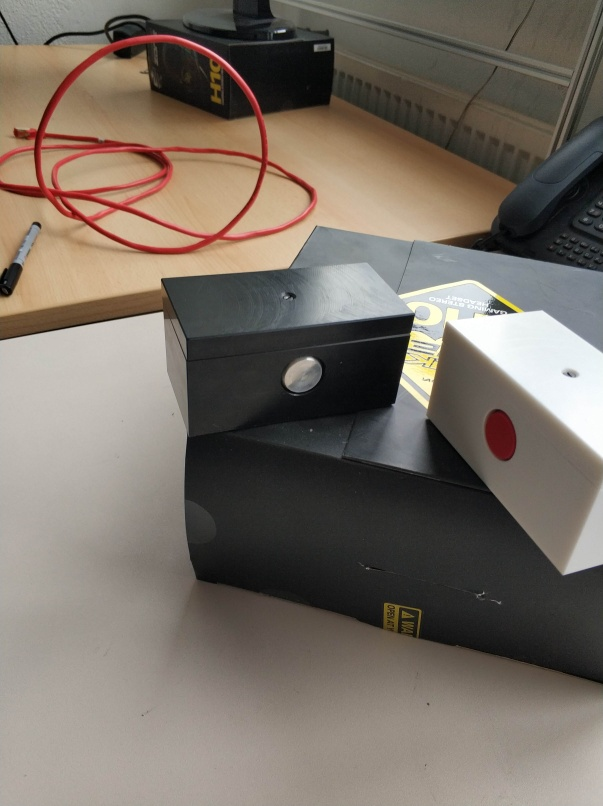black+black+silver: (161, 259, 416, 444)
white+white+red: (421, 307, 603, 576)
